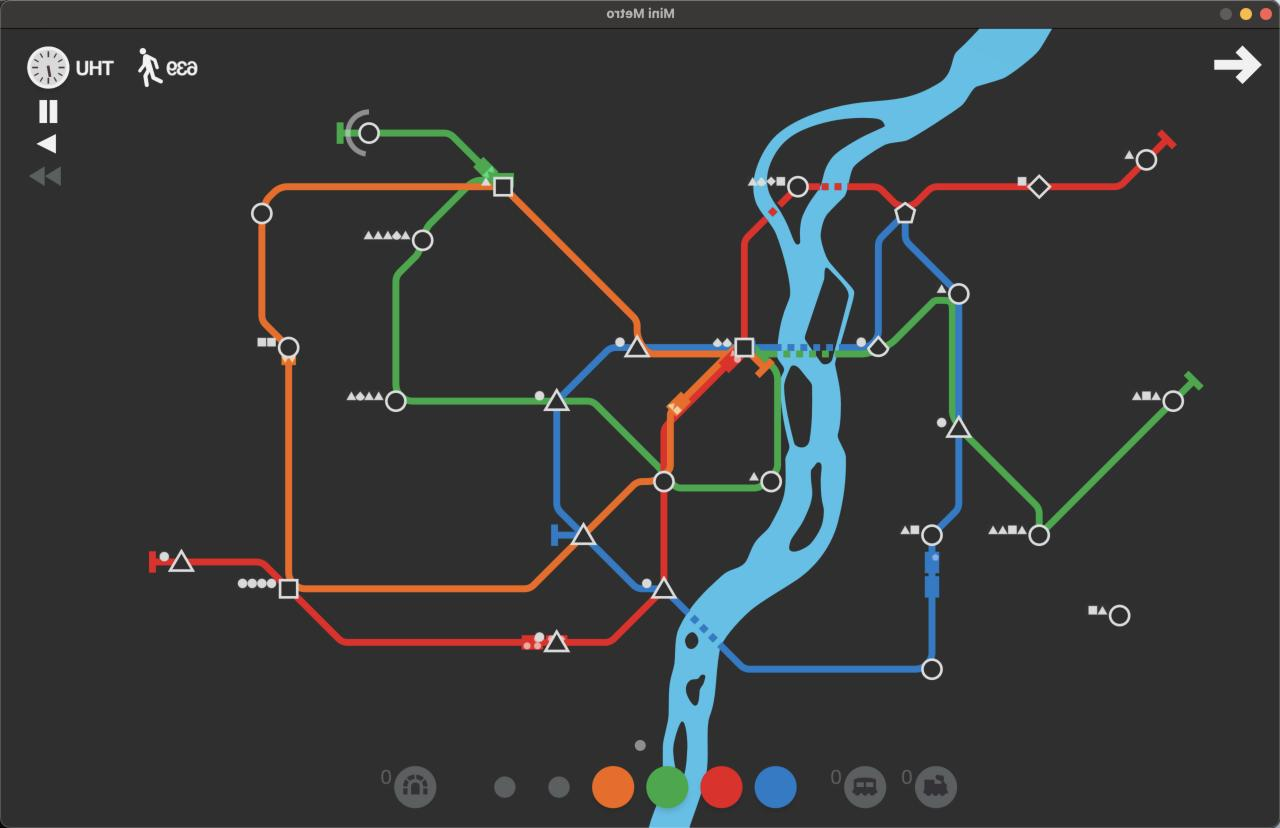BLUE LINE: (757, 217, 899, 351), (670, 599, 918, 673), (559, 342, 631, 397), (901, 224, 953, 287), (590, 545, 657, 592), (554, 411, 578, 527), (936, 439, 962, 528), (925, 549, 935, 658), (955, 303, 962, 417), (645, 343, 733, 349), (551, 522, 570, 545)
DARK GREEN LINE: (1045, 409, 1168, 531), (884, 297, 955, 421), (563, 398, 661, 472), (966, 437, 1043, 524), (379, 129, 494, 184), (391, 251, 419, 391), (424, 194, 465, 228), (770, 365, 781, 473), (405, 396, 551, 404), (757, 348, 869, 358), (1181, 371, 1205, 397), (672, 483, 761, 490), (337, 122, 359, 143)
ORANGE LINE: (509, 194, 641, 337), (299, 543, 577, 592), (649, 351, 728, 471), (263, 183, 489, 203), (587, 475, 654, 533), (257, 226, 284, 345), (284, 364, 292, 579), (750, 356, 774, 377)
RED LINE: (296, 594, 547, 647), (739, 193, 789, 336), (565, 598, 655, 646), (675, 353, 737, 421), (909, 183, 1023, 207), (1050, 166, 1138, 191), (809, 183, 899, 206), (186, 559, 279, 581), (658, 493, 668, 577), (148, 550, 174, 573), (1152, 130, 1177, 153), (661, 420, 667, 468)
